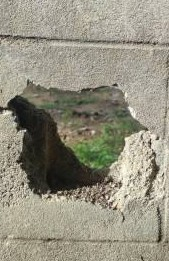Spalling: (6, 78, 169, 211)
